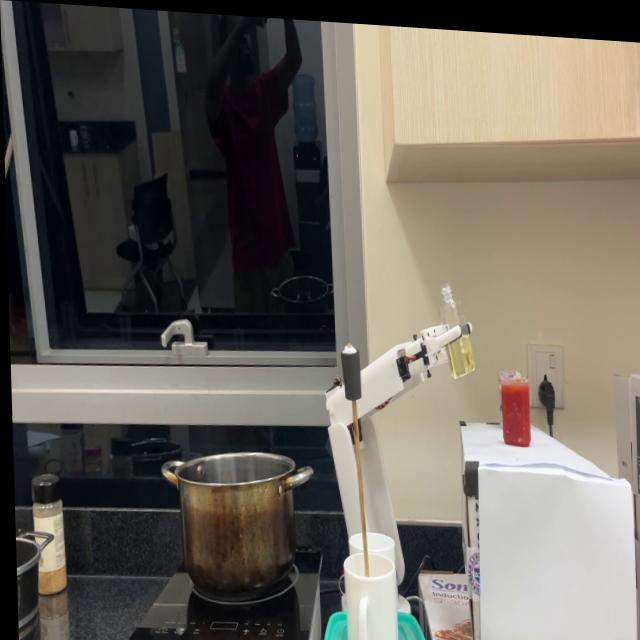blended_tomatoes_pepper: (502, 375, 529, 441)
cooking_pot: (12, 522, 51, 629)
oil: (445, 328, 471, 374)
spatula: (160, 455, 315, 601), (349, 368, 369, 575)
